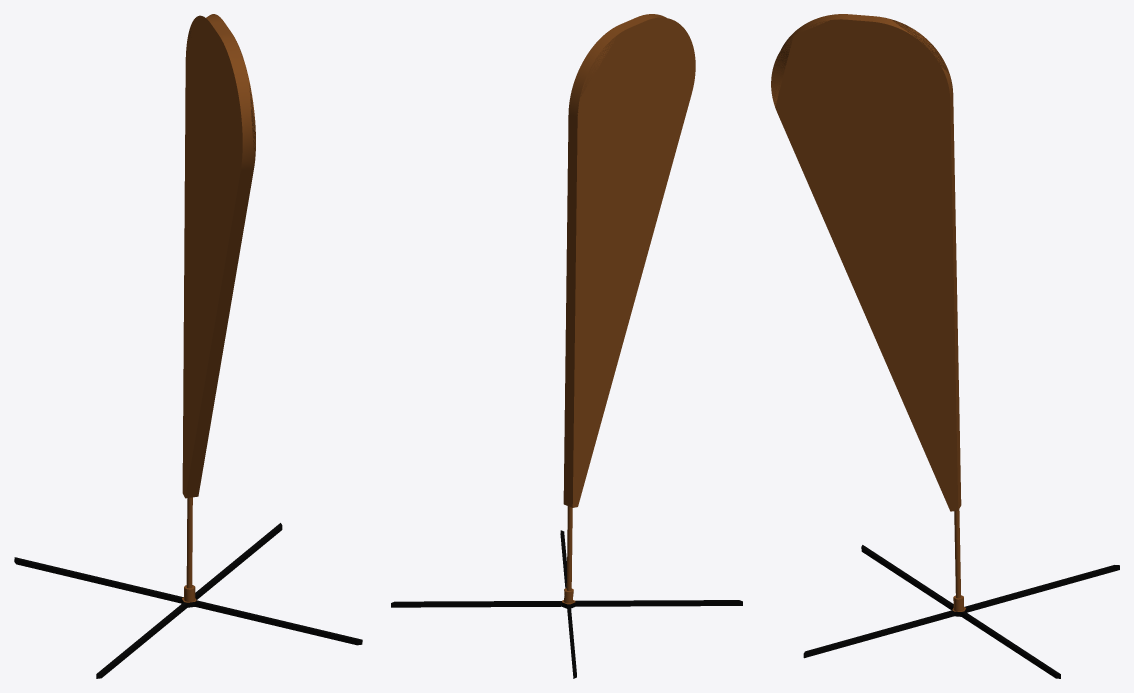
The model's file is bandera1.glb.
3 renders of one model, left to right at view 1: azimuth 30°, elevation 25°; view 2: azimuth 150°, elevation 25°; view 3: azimuth 270°, elevation 25°, orthographic. The views are drawn at different scales.
Visible parts, largest first — view 1: Флаг 3 на стальном основании; view 2: Флаг 3 на стальном основании; view 3: Флаг 3 на стальном основании.
Part boxes in pixels (x1,y1,x2,y2): Флаг 3 на стальном основании: (14,14,362,678); Флаг 3 на стальном основании: (391,14,742,678); Флаг 3 на стальном основании: (771,14,1119,678).
Size of the model in its own units: 1.2 by 2.46 by 1.32.
Materials: 2 (2 with a texture image).
